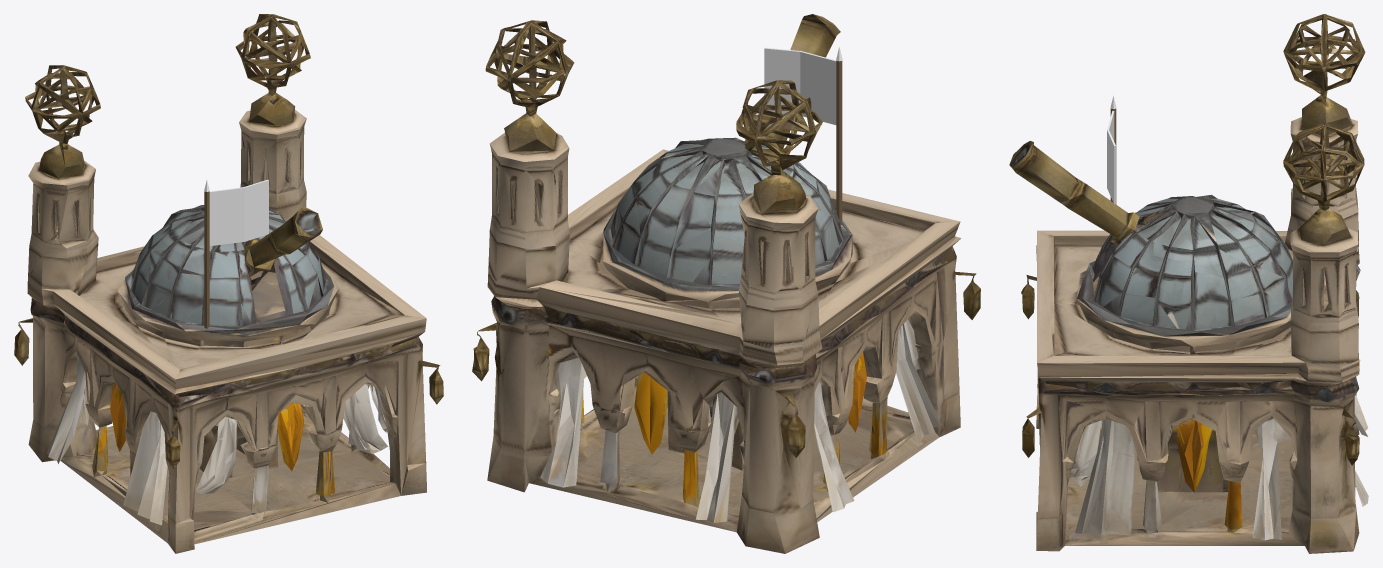
3 views of the same model, side by side, from view 1: azimuth 30°, elevation 25°; view 2: azimuth 150°, elevation 25°; view 3: azimuth 270°, elevation 25° (orthographic). The views are drawn at different scales.
Parts seen in each view (by area): view 1: dune_house_of_wisdom, Team_banner; view 2: dune_house_of_wisdom, Team_banner; view 3: dune_house_of_wisdom, Team_banner.
Part boxes in pixels (<box>): dune_house_of_wisdom: <box>14,14,443,553</box>; Team_banner: <box>204,179,268,328</box>; dune_house_of_wisdom: <box>472,14,980,553</box>; Team_banner: <box>764,47,842,220</box>; dune_house_of_wisdom: <box>1009,14,1368,553</box>; Team_banner: <box>1107,96,1116,204</box>.
Bounding box in the file's own units: 1.43 × 1.88 × 1.47.
Materials: 3 (1 with a texture image).
